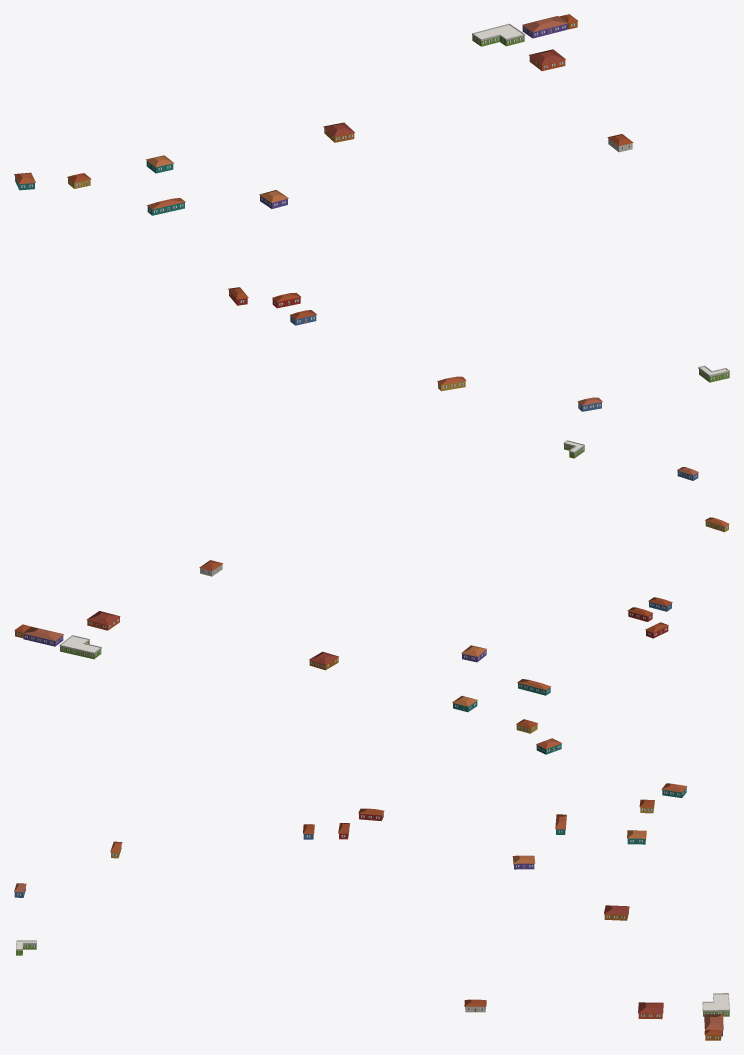
Rendered from msb_sannicolas_16_21.glb.
The picture shows the model from 3 angles, top to bottom: view 1: azimuth 30°, elevation 25°; view 2: azimuth 150°, elevation 25°; view 3: azimuth 270°, elevation 25°; orthographic projection. The views are drawn at different scales.
Parts seen in each view (by area): view 1: msb_sannicolas_16_21_lod0; view 2: msb_sannicolas_16_21_lod0; view 3: msb_sannicolas_16_21_lod0.
Part boxes in pixels (<box>): msb_sannicolas_16_21_lod0: <box>14,14,729,411</box>; msb_sannicolas_16_21_lod0: <box>14,440,729,754</box>; msb_sannicolas_16_21_lod0: <box>14,783,729,1040</box>.
Size of what is drawn, in the model's own units: 324 by 14.33 by 381.
3 materials, 1 textured.
